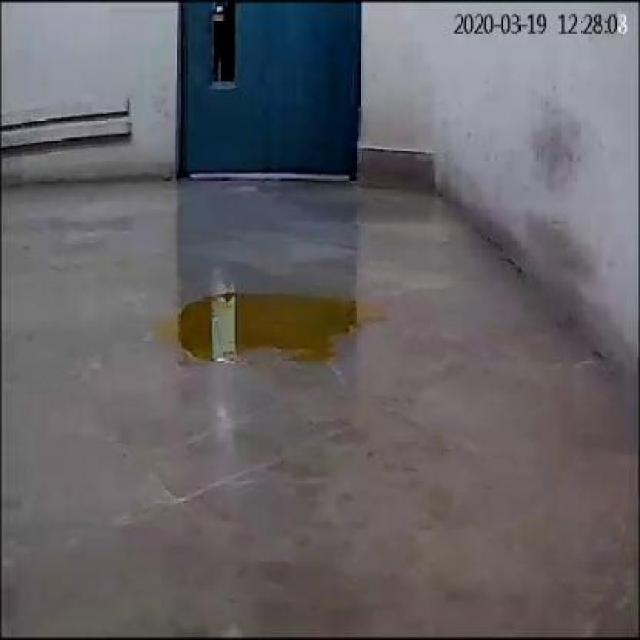spill: (150, 291, 382, 367)
